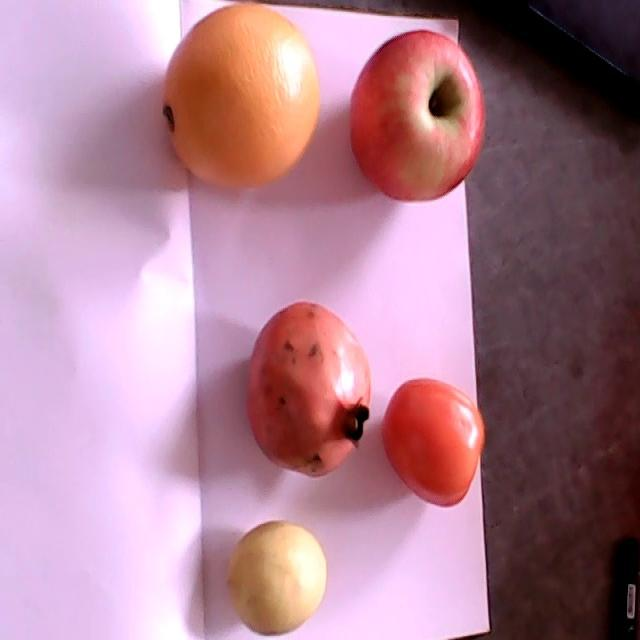apple: (350, 30, 487, 199)
lemon: (225, 521, 328, 634)
orange: (161, 5, 319, 191)
pomegranate: (245, 302, 371, 477)
tomato: (382, 380, 486, 506)
